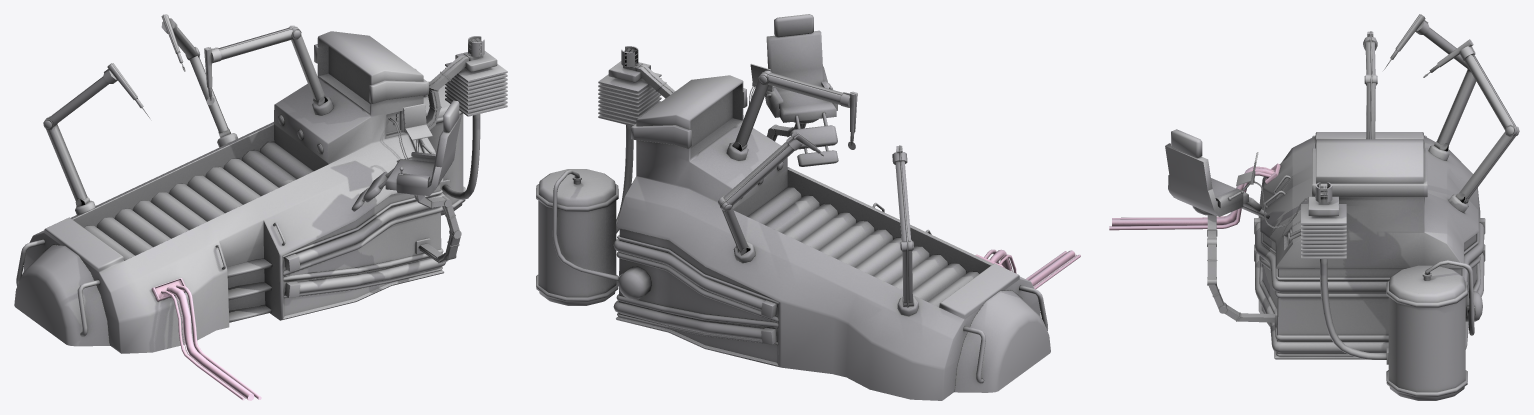
The picture shows the model from 3 angles, left to right: view 1: azimuth 30°, elevation 25°; view 2: azimuth 150°, elevation 25°; view 3: azimuth 270°, elevation 25°; orthographic projection.
Visible parts, largest first — view 1: MedBase, BoxProvoda; view 2: MedBase, BoxProvoda; view 3: MedBase, BoxProvoda.
Boxes of the visible parts, x1,y1,x2,y2 form: MedBase: (14,14,507,353); BoxProvoda: (151,278,261,400); MedBase: (536,14,1050,400); BoxProvoda: (975,249,1080,288); MedBase: (1165,14,1519,400); BoxProvoda: (1109,163,1280,230).
Bounding box in the file's own units: 133 × 67.37 × 106.
2 materials, 2 textured.
